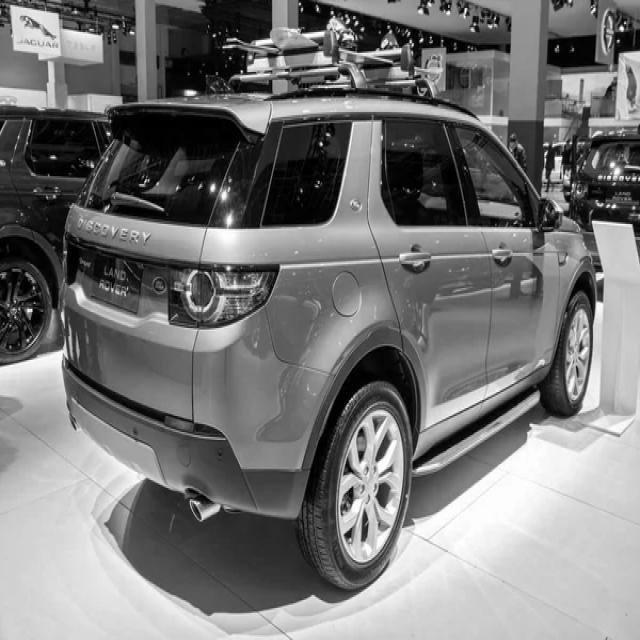Car: (62, 90, 597, 590)
